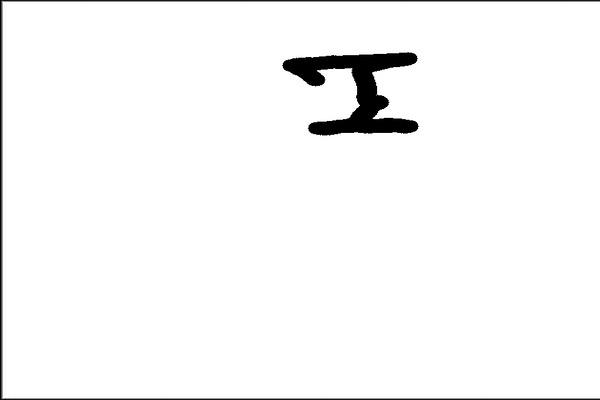i: (269, 41, 438, 152)
